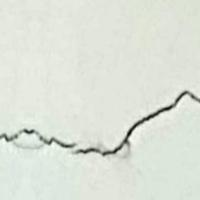crack: (0, 83, 199, 169)
